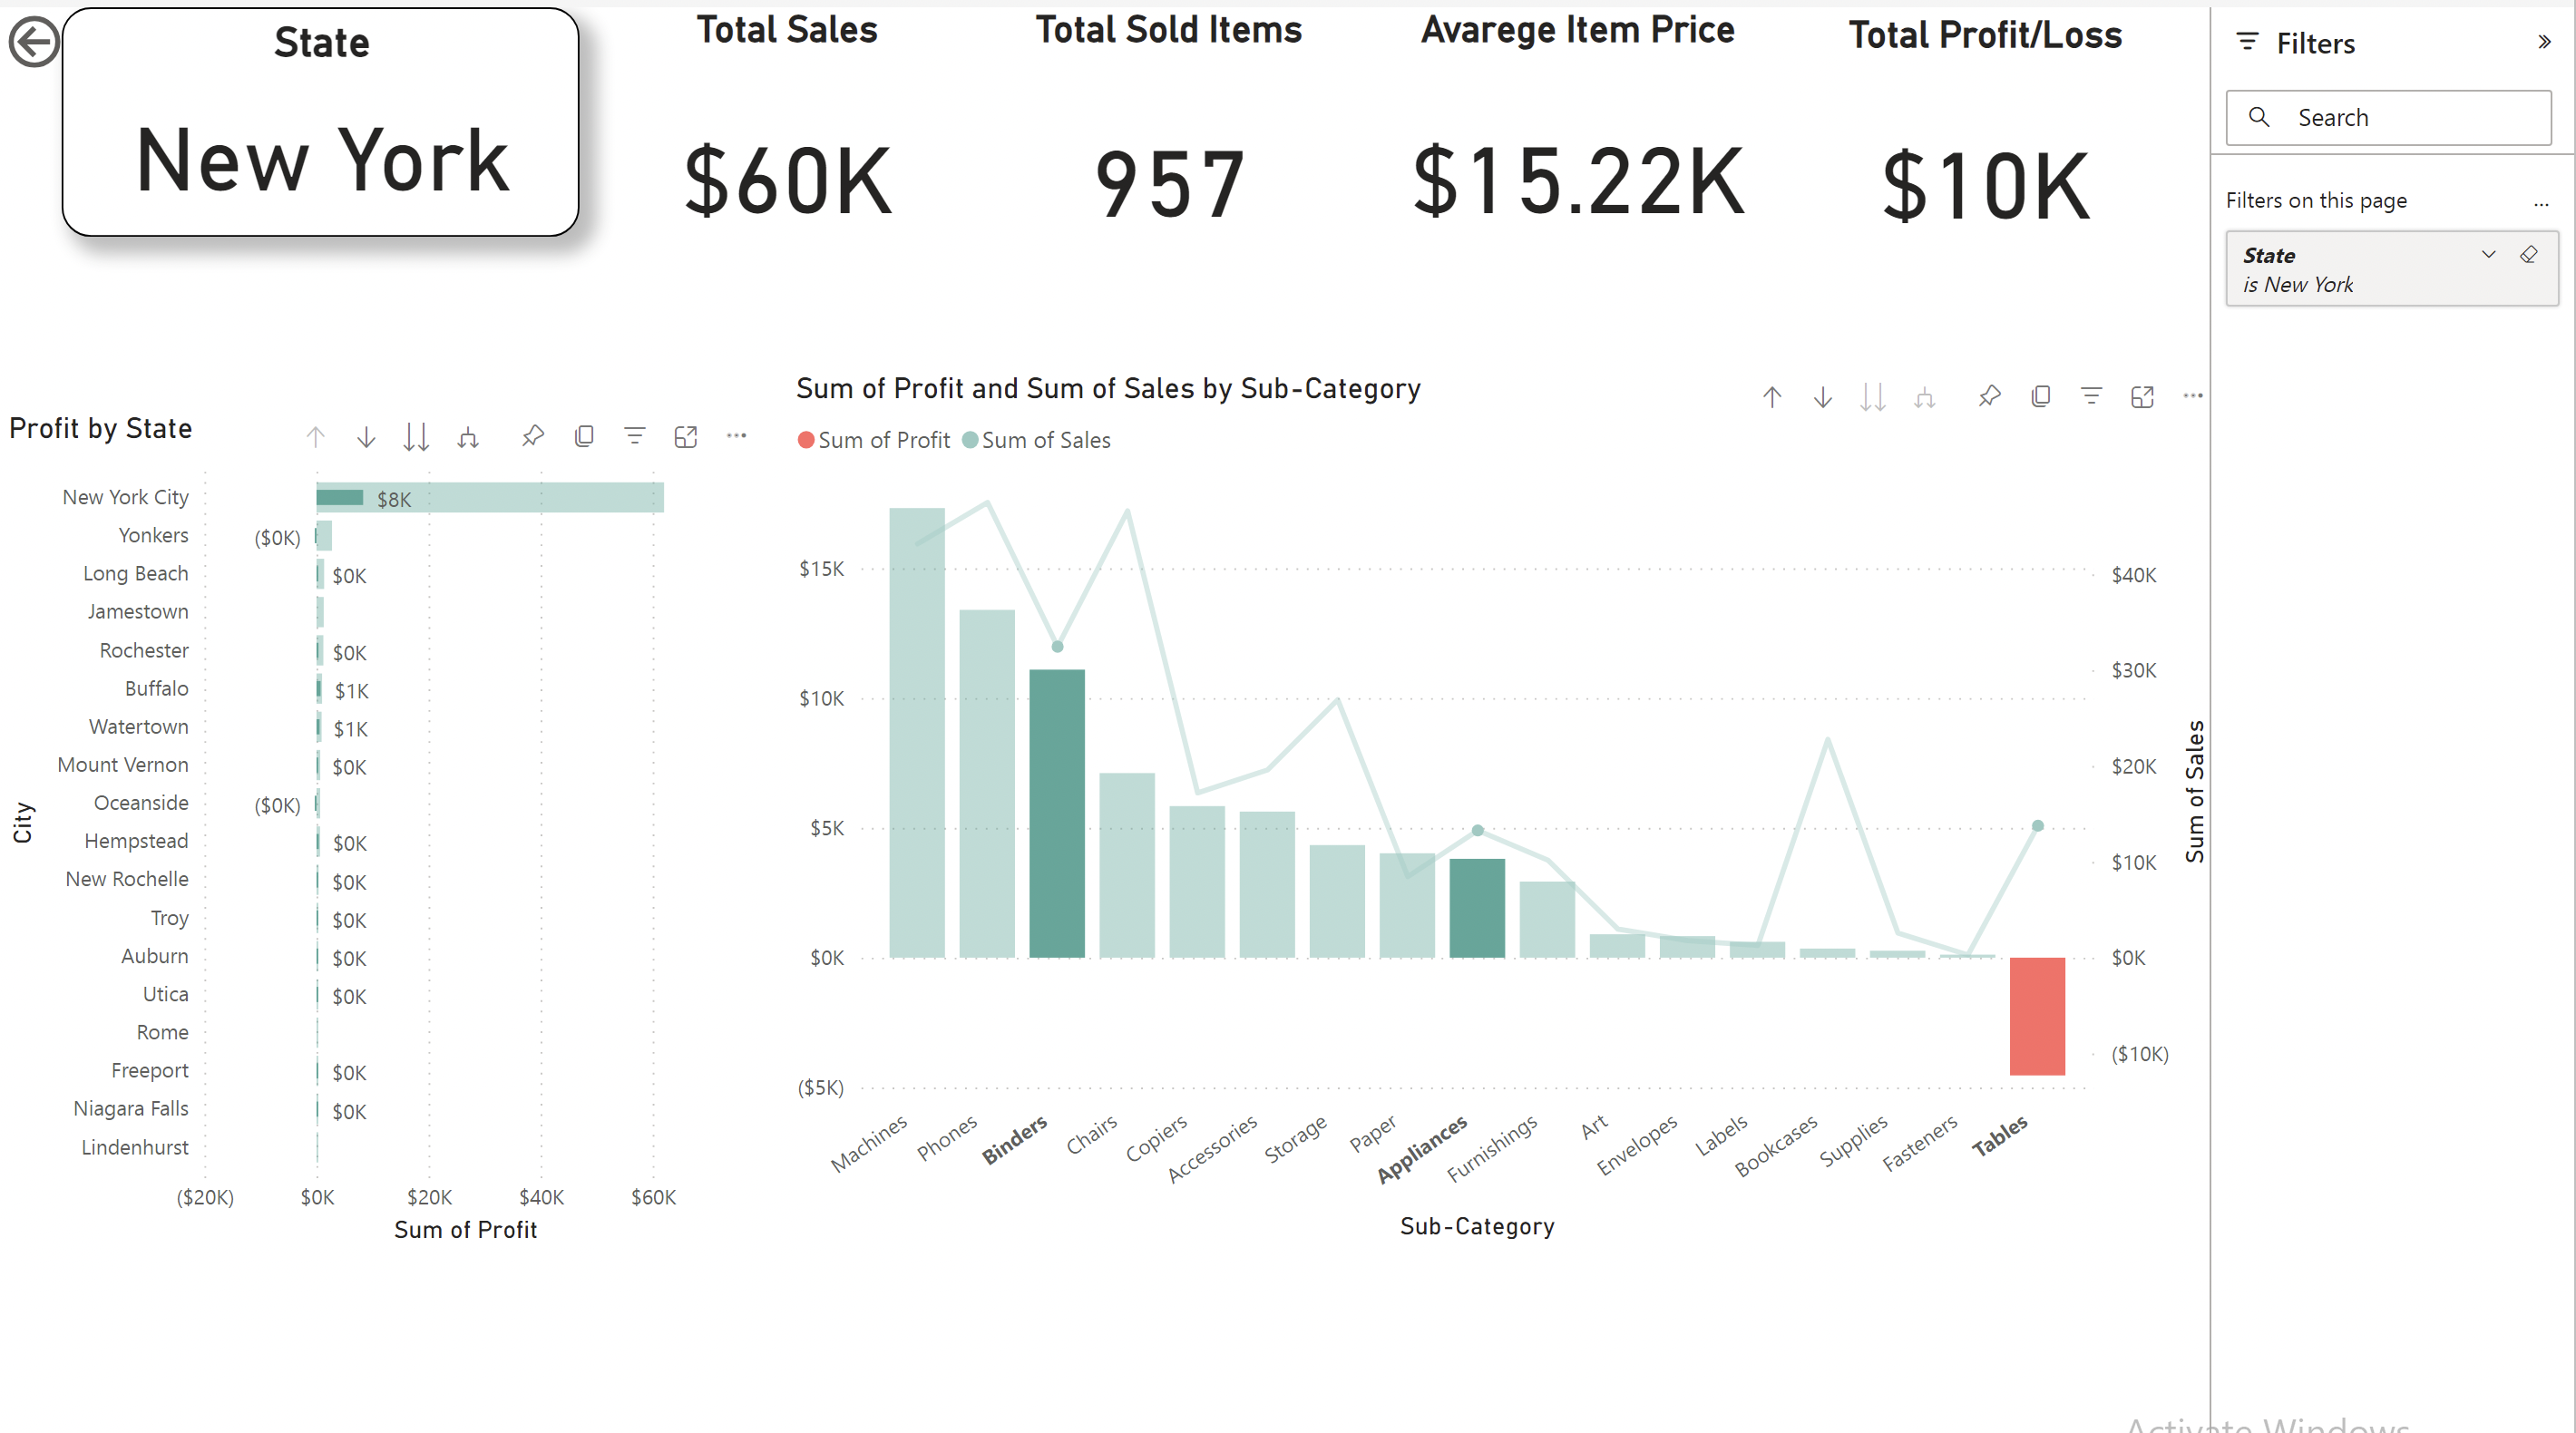

The dashboard page shown, as its layout file describes it:
{"tool":"powerbi","page":{"name":"Geographical Insights","canvas":[1280,720],"ordinal":4},"visuals":[{"type":"group","id":"g1","title":"Group 1","box":[0,0,1284.3,720.5],"z":0},{"type":"clusteredBarChart","title":"Profit by State","fields":{"Y":["Sum(SalesFact.Profit)"],"Category":["LocationDim.Country Hierarchy.City","LocationDim.Country Hierarchy.Postal Code"]},"box":[0,234.2,440.7,486.3],"z":0,"group":"g1"},{"type":"actionButton","box":[0,0,100,40],"z":1000},{"type":"card","title":"Total Profit/Loss","fields":{"Values":["Sum(SalesFact.Profit)"]},"box":[1020,3.4,260,162.7],"z":1000,"group":"g1"},{"type":"card","title":"Avarege Item Price","fields":{"Values":["Sum(SalesFact.Avg Item Price (after discount))"]},"box":[791.9,0,244.1,162],"z":2000},{"type":"lineClusteredColumnComboChart","fields":{"Category":["CategoryDim.Category Hierarchy.Category","CategoryDim.Category Hierarchy.Sub-Category"],"Y2":["Sum(SalesFact.Sales)"],"Y":["Sum(SalesFact.Profit)"]},"box":[456.4,211.1,827.5,507.5],"z":2000,"group":"g1"},{"type":"card","title":"State","fields":{"Values":["Min(LocationDim.State)"]},"box":[35.7,0,300.2,132.8],"z":3000},{"type":"card","title":"Total Sales","fields":{"Values":["Sum(SalesFact.Sales)"]},"box":[336.8,0,239.8,162],"z":3000,"group":"g1"},{"type":"card","title":"Total Sold Items","fields":{"Values":["Sum(SalesFact.Quantity)"]},"box":[563.8,0,228.1,166.3],"z":4000,"group":"g1"}]}

Visuals, with their boxes on the page's 1280x720 design canvas (x1, y1, x2, y2). These are canvas units, not pixel positions in the 2576x1433 screenshot, which may show the page scaled, cropped or inside an application window:
"Group 1" group: (0, 0, 1284, 720)
"Profit by State" clusteredBarChart: (0, 234, 441, 720)
actionButton: (0, 0, 100, 40)
"Total Profit/Loss" card: (1020, 3, 1280, 166)
"Avarege Item Price" card: (792, 0, 1036, 162)
lineClusteredColumnComboChart - CategoryDim.Category Hierarchy.Category x CategoryDim.Category Hierarchy.Sub-Category: (456, 211, 1284, 719)
"State" card: (36, 0, 336, 133)
"Total Sales" card: (337, 0, 577, 162)
"Total Sold Items" card: (564, 0, 792, 166)
